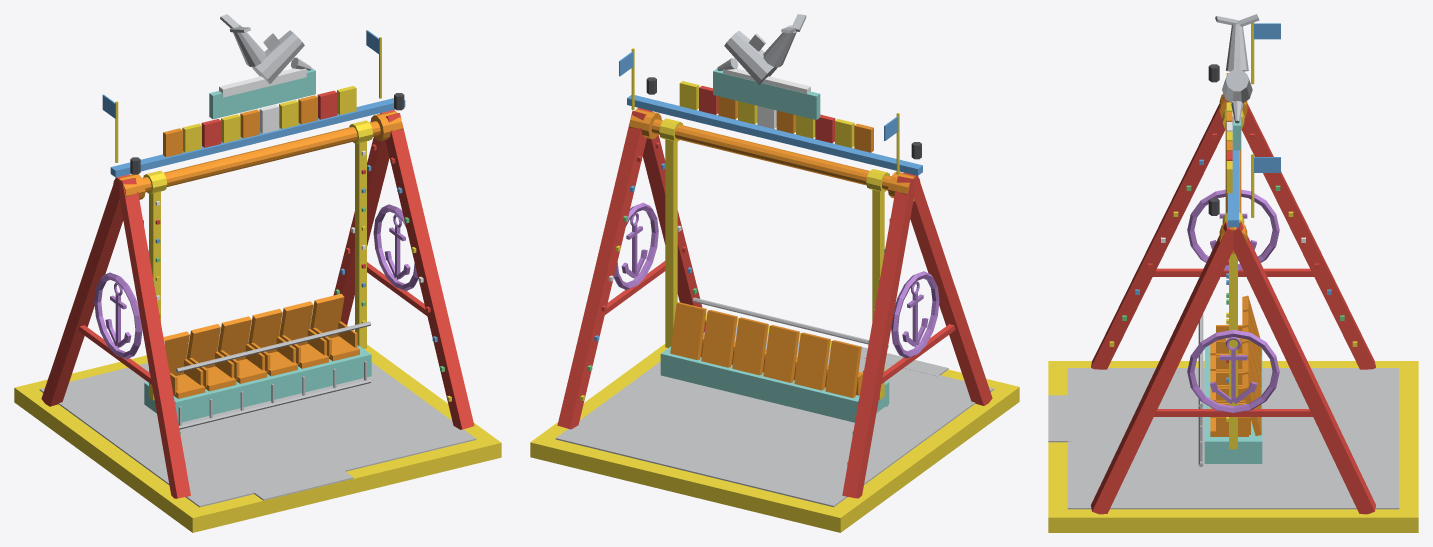
The picture shows the model from 3 angles, left to right: view 1: azimuth 30°, elevation 25°; view 2: azimuth 150°, elevation 25°; view 3: azimuth 270°, elevation 25°; orthographic projection. The views are drawn at different scales.
Visible parts, largest first — view 1: base, swing0; view 2: base, swing0; view 3: base, swing0.
Boxes of the visible parts, x1,y1,x2,y2 form: base: [14, 14, 501, 532]; swing0: [143, 120, 373, 429]; base: [530, 14, 1019, 532]; swing0: [659, 118, 889, 422]; base: [1048, 14, 1418, 532]; swing0: [1198, 109, 1262, 466].
Size of the model in its own units: 4.8 by 6.11 by 4.8.
